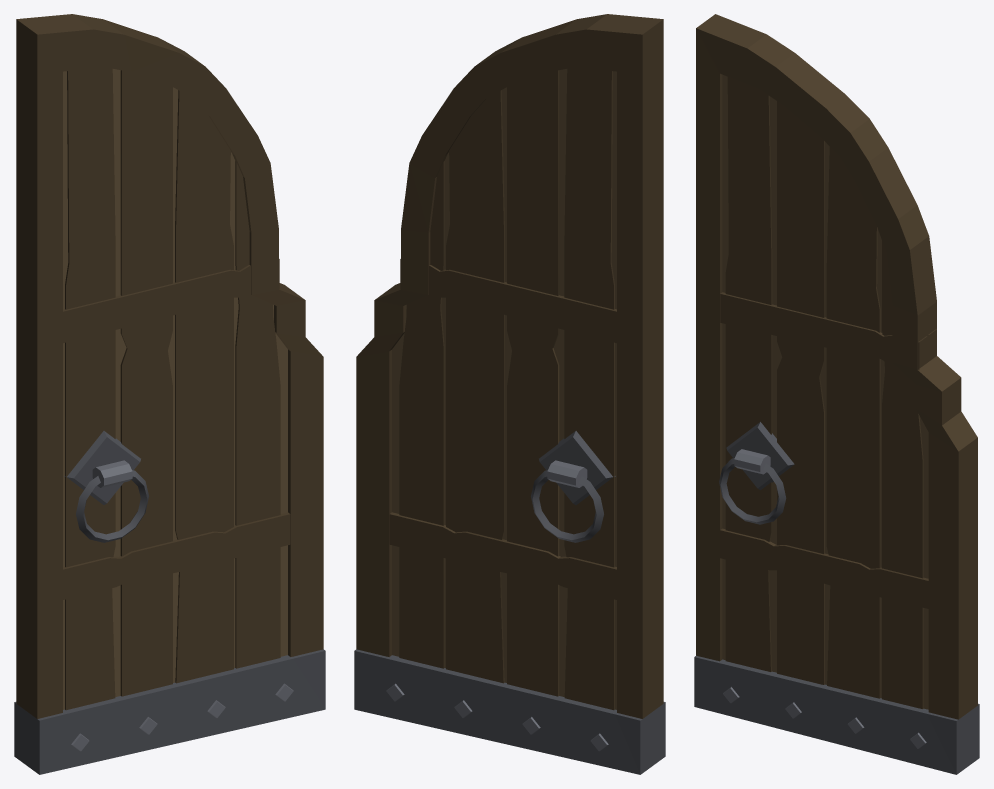
The model's file is doors_roundarch_r_lev3.glb.
3 renders of one model, left to right at view 1: azimuth 30°, elevation 25°; view 2: azimuth 150°, elevation 25°; view 3: azimuth 330°, elevation 25°, orthographic. The views are drawn at different scales.
Parts seen in each view (by area): view 1: doors_roundarch_r_lev3; view 2: doors_roundarch_r_lev3; view 3: doors_roundarch_r_lev3.
Boxes of the visible parts, x1,y1,x2,y2 form: doors_roundarch_r_lev3: (14, 14, 325, 774); doors_roundarch_r_lev3: (354, 14, 665, 774); doors_roundarch_r_lev3: (694, 14, 979, 774).
Size of the model in its own units: 2.69 by 6.67 by 0.7508.
